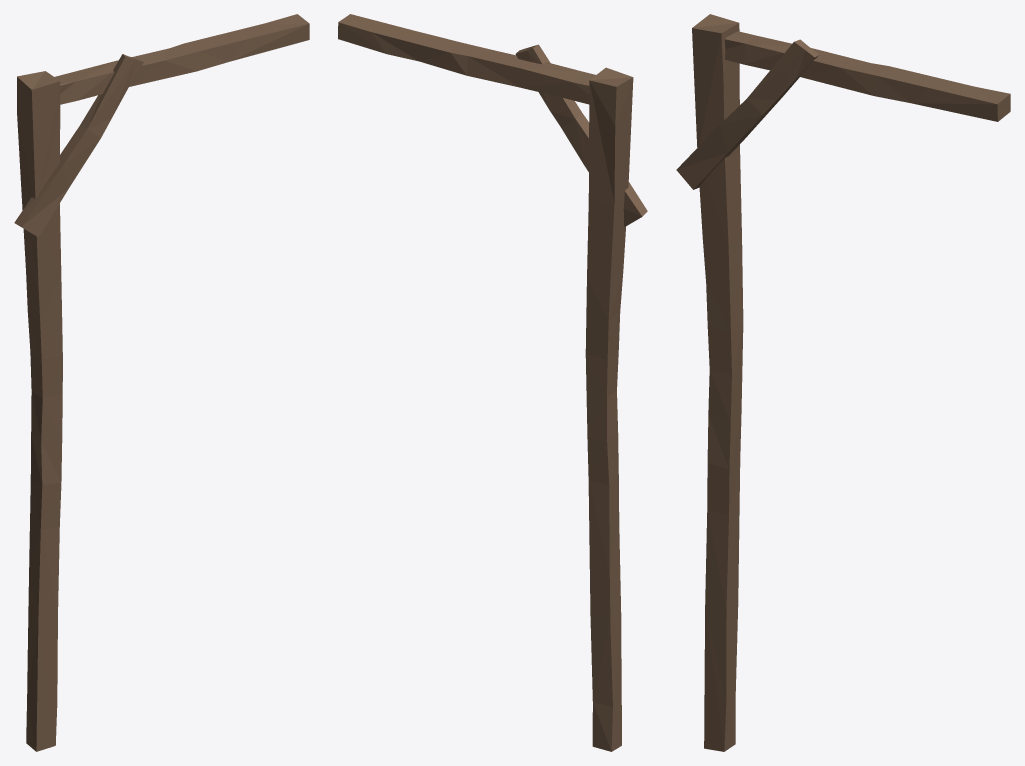
File: Flag Pole 1.fbx
The picture shows the model from 3 angles, left to right: view 1: azimuth 30°, elevation 25°; view 2: azimuth 150°, elevation 25°; view 3: azimuth 330°, elevation 25°; orthographic projection. The views are drawn at different scales.
Visible parts, largest first — view 1: Flag Pole 1; view 2: Flag Pole 1; view 3: Flag Pole 1.
Part boxes in pixels (x1,y1,x2,y2): Flag Pole 1: (14,14,309,751); Flag Pole 1: (338,14,647,751); Flag Pole 1: (676,14,1010,751).
Size of the model in its own units: 145 by 319 by 16.57.
